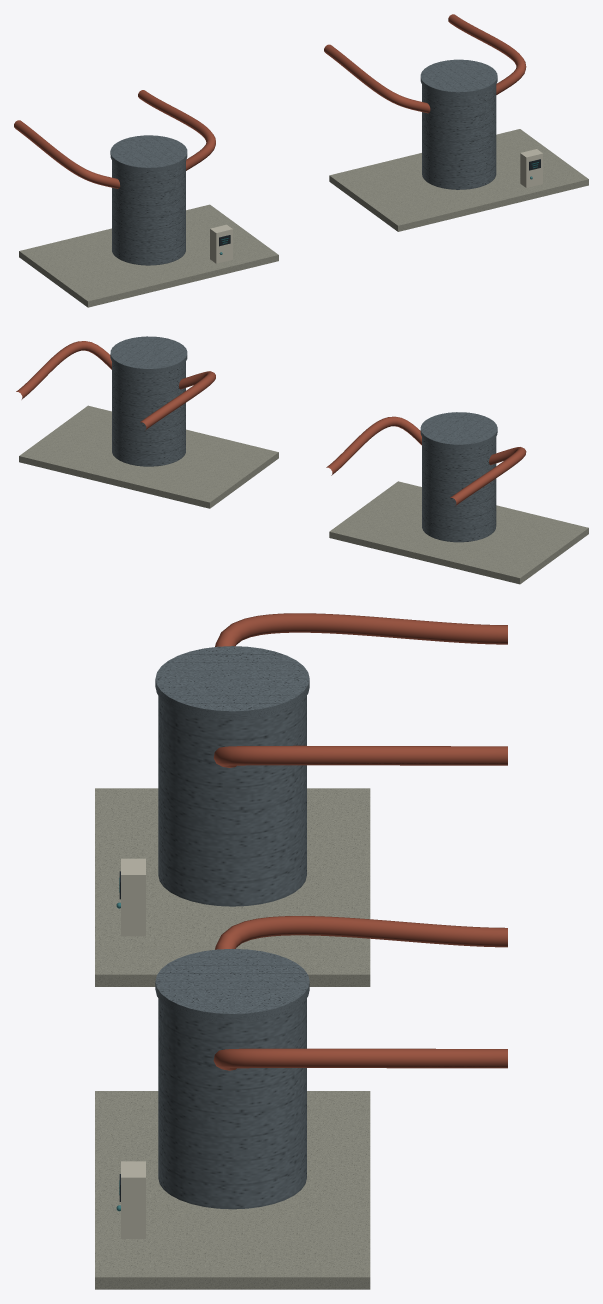
Rendered from cooling-process.f5ef4039a254.glb.
3 renders of one model, top to bottom at view 1: azimuth 30°, elevation 25°; view 2: azimuth 150°, elevation 25°; view 3: azimuth 270°, elevation 25°, orthographic. The views are drawn at different scales.
Visible parts, largest first — view 1: structure_concrete_00023, structure_steel_00024, structure_warm_00025, structure_cream_00026; view 2: structure_concrete_00023, structure_steel_00024, structure_warm_00025; view 3: structure_steel_00024, structure_concrete_00023, structure_warm_00025, structure_cream_00026.
Part boxes in pixels (<box>): structure_concrete_00023: <box>19,129,588,307</box>; structure_steel_00024: <box>110,59,497,265</box>; structure_warm_00025: <box>14,14,526,188</box>; structure_cream_00026: <box>210,149,542,263</box>; structure_concrete_00023: <box>19,405,588,584</box>; structure_steel_00024: <box>110,336,497,542</box>; structure_warm_00025: <box>16,341,526,505</box>; structure_steel_00024: <box>155,646,309,1209</box>; structure_concrete_00023: <box>95,788,370,1289</box>; structure_warm_00025: <box>213,613,507,1070</box>; structure_cream_00026: <box>121,858,145,1238</box>.
Size of the model in its own units: 21 by 4.31 by 7.5.
7 materials, 3 textured.
